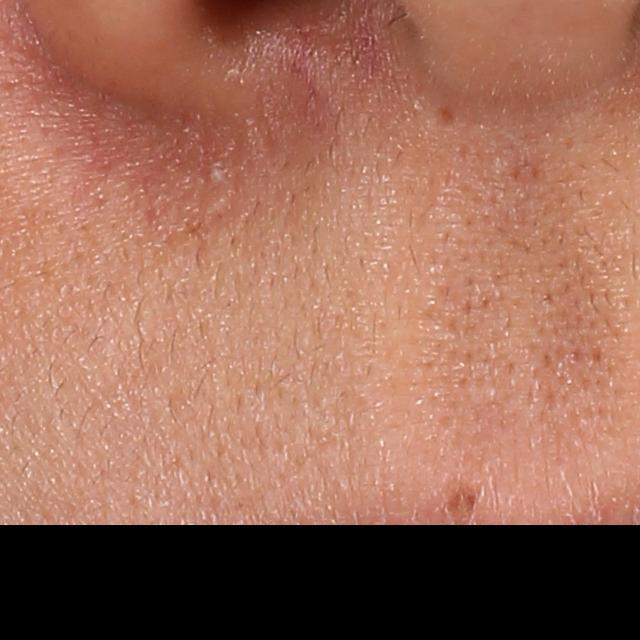atrophic_scar: (430, 105, 464, 134)
comedo: (203, 157, 232, 187)
